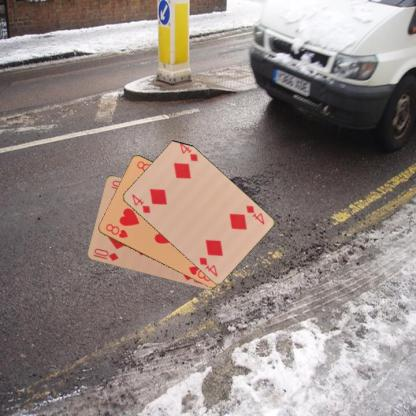10d: (90, 246, 120, 262)
4d: (243, 203, 266, 226), (129, 192, 151, 214)
8h: (103, 221, 129, 239)
